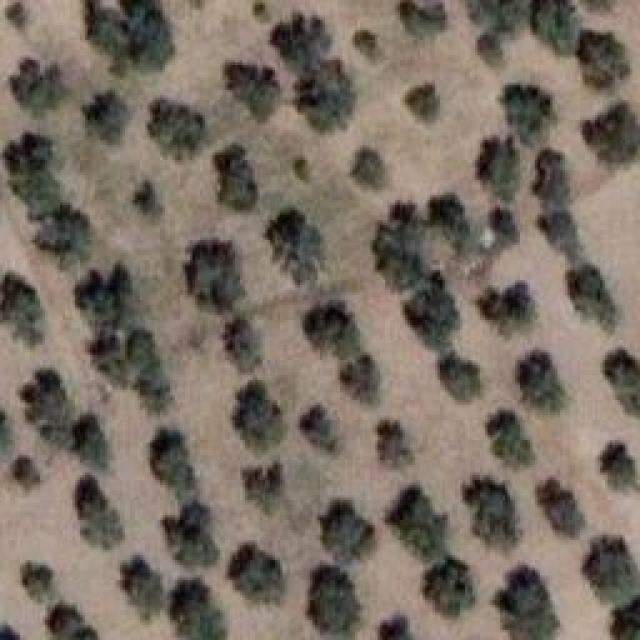Tree: (95, 327, 170, 414), (87, 0, 174, 69), (495, 565, 560, 640), (375, 203, 431, 289), (403, 270, 459, 351), (265, 208, 323, 286), (295, 60, 356, 132), (75, 263, 139, 328), (188, 240, 244, 313), (463, 478, 518, 550), (395, 488, 449, 561), (17, 370, 73, 440), (583, 535, 638, 606), (270, 13, 331, 75), (162, 500, 220, 565), (75, 475, 124, 551), (423, 553, 478, 619), (308, 565, 361, 633), (147, 98, 205, 160), (582, 103, 640, 165), (170, 577, 227, 640), (233, 382, 284, 452), (320, 500, 375, 563), (500, 85, 554, 146), (0, 273, 44, 346), (10, 58, 65, 115), (225, 65, 280, 122), (35, 203, 90, 260), (570, 265, 617, 331), (228, 545, 281, 603), (517, 350, 565, 413), (213, 144, 258, 210), (477, 282, 535, 332), (308, 300, 361, 354), (120, 555, 163, 620), (478, 137, 521, 202), (537, 478, 585, 536), (583, 30, 631, 87), (150, 428, 198, 483), (60, 415, 112, 465), (430, 194, 473, 254), (488, 410, 533, 466), (533, 0, 580, 53), (83, 90, 129, 143), (605, 347, 640, 415), (335, 353, 382, 403), (533, 150, 569, 210), (465, 0, 530, 33), (440, 350, 481, 402), (243, 464, 284, 514), (225, 317, 261, 372), (540, 208, 583, 254), (600, 443, 638, 491), (8, 133, 50, 175), (50, 605, 100, 640), (380, 420, 413, 470), (130, 173, 165, 220), (403, 0, 446, 38), (300, 405, 334, 452), (490, 205, 523, 252), (350, 148, 383, 190), (405, 83, 441, 121), (610, 595, 640, 640), (23, 562, 53, 602), (13, 455, 42, 490), (380, 615, 416, 640), (10, 3, 36, 34), (285, 153, 313, 181), (478, 33, 501, 66), (355, 30, 376, 61)
